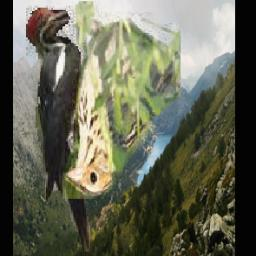Sparrow: (62, 1, 181, 199)
Woodpecker: (26, 5, 90, 252)
